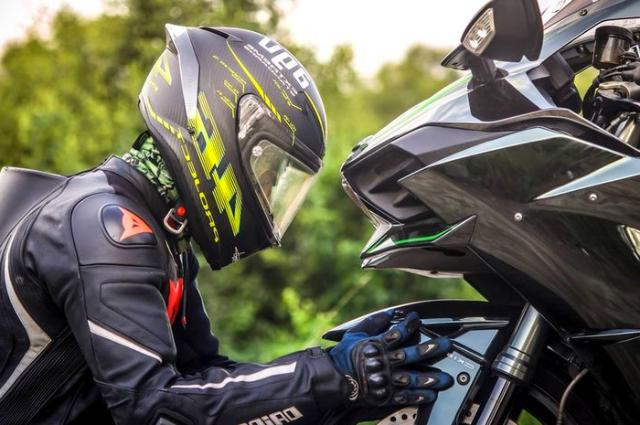helm: (137, 23, 330, 277)
motor: (339, 1, 640, 425)
